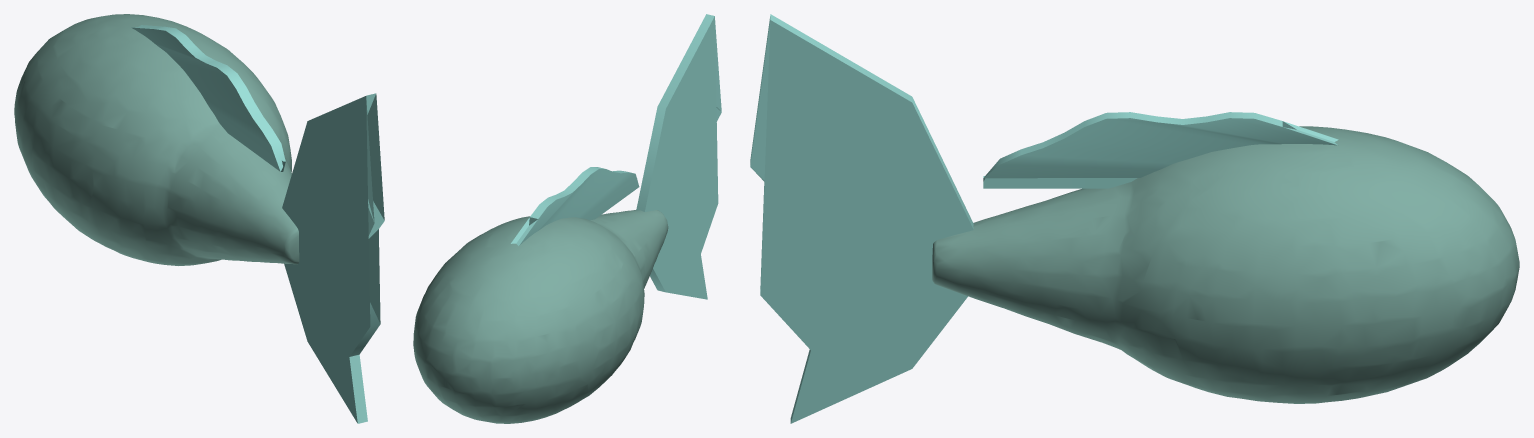
File: serpent_tail.glb
3 renders of one model, left to right at view 1: azimuth 30°, elevation 25°; view 2: azimuth 150°, elevation 25°; view 3: azimuth 270°, elevation 25°, orthographic. The views are drawn at different scales.
Parts seen in each view (by area): view 1: Tail, TailFan, Dorsal; view 2: Tail, TailFan, Dorsal; view 3: Tail, TailFan, Dorsal.
Part boxes in pixels (x1,y1,x2,y2): Tail: (14,14,299,265); TailFan: (282,93,384,423); Dorsal: (131,25,285,171); Tail: (413,210,668,423); TailFan: (636,14,721,299); Dorsal: (511,167,639,245); Tail: (932,126,1519,403); TailFan: (750,14,973,423); Dorsal: (983,112,1338,188).
Size of the model in its own units: 0.7191 by 1.1 by 1.9.
